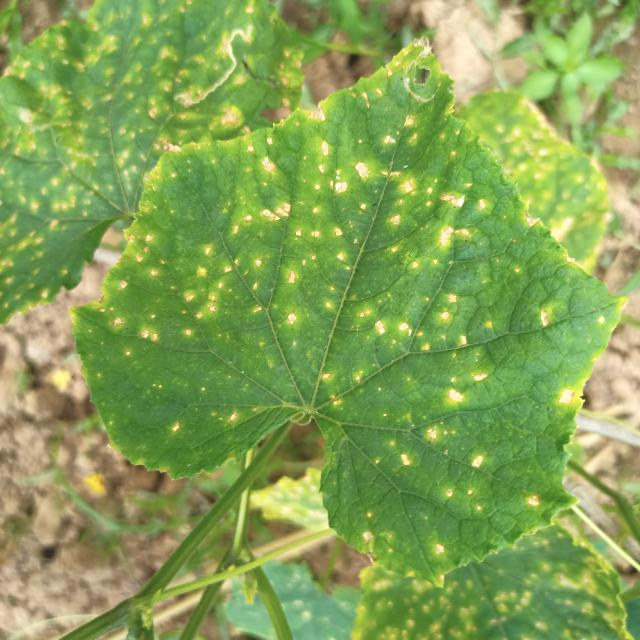disease_cucumber: (98, 83, 601, 364), (318, 364, 546, 562), (168, 387, 243, 438), (544, 379, 582, 412)
